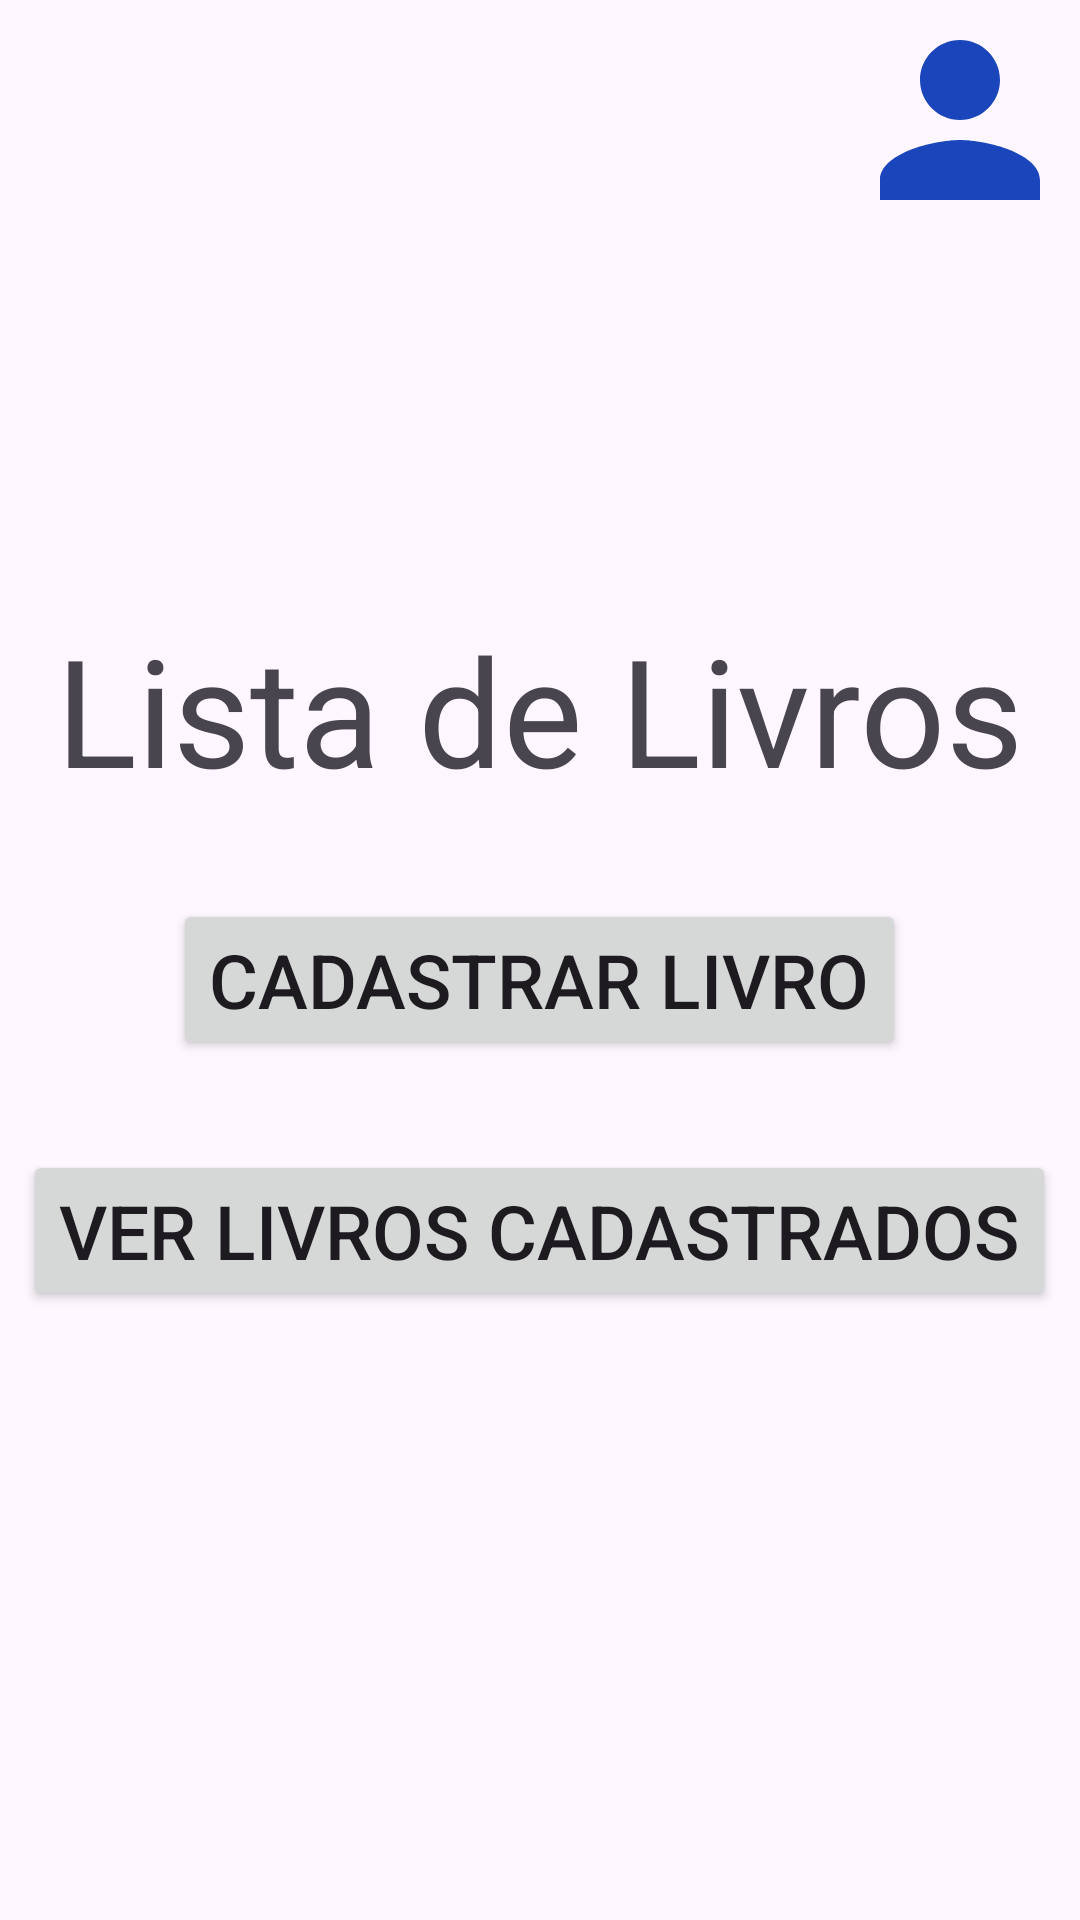

Icon bounding boxes for this 1080x1920 phone screenshot, format [x1=x1, y1=y1, x2=x2, y2=y2]:
person: [x1=880, y1=40, x2=1040, y2=200]
